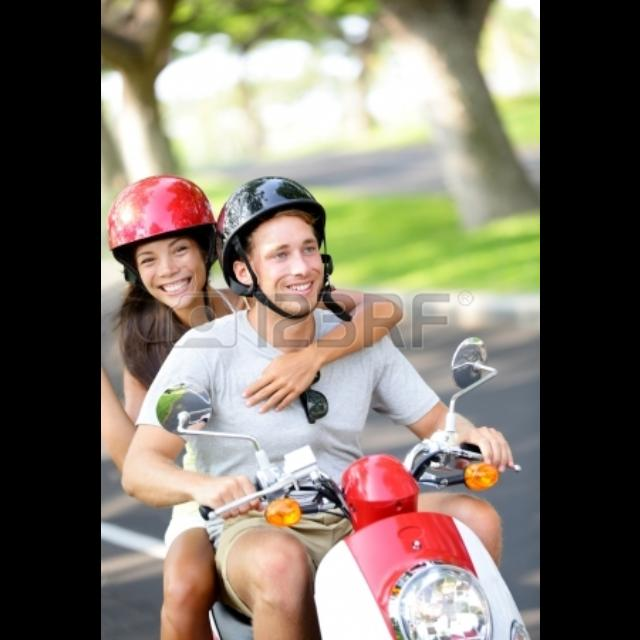With Helmet: (201, 169, 363, 331)
